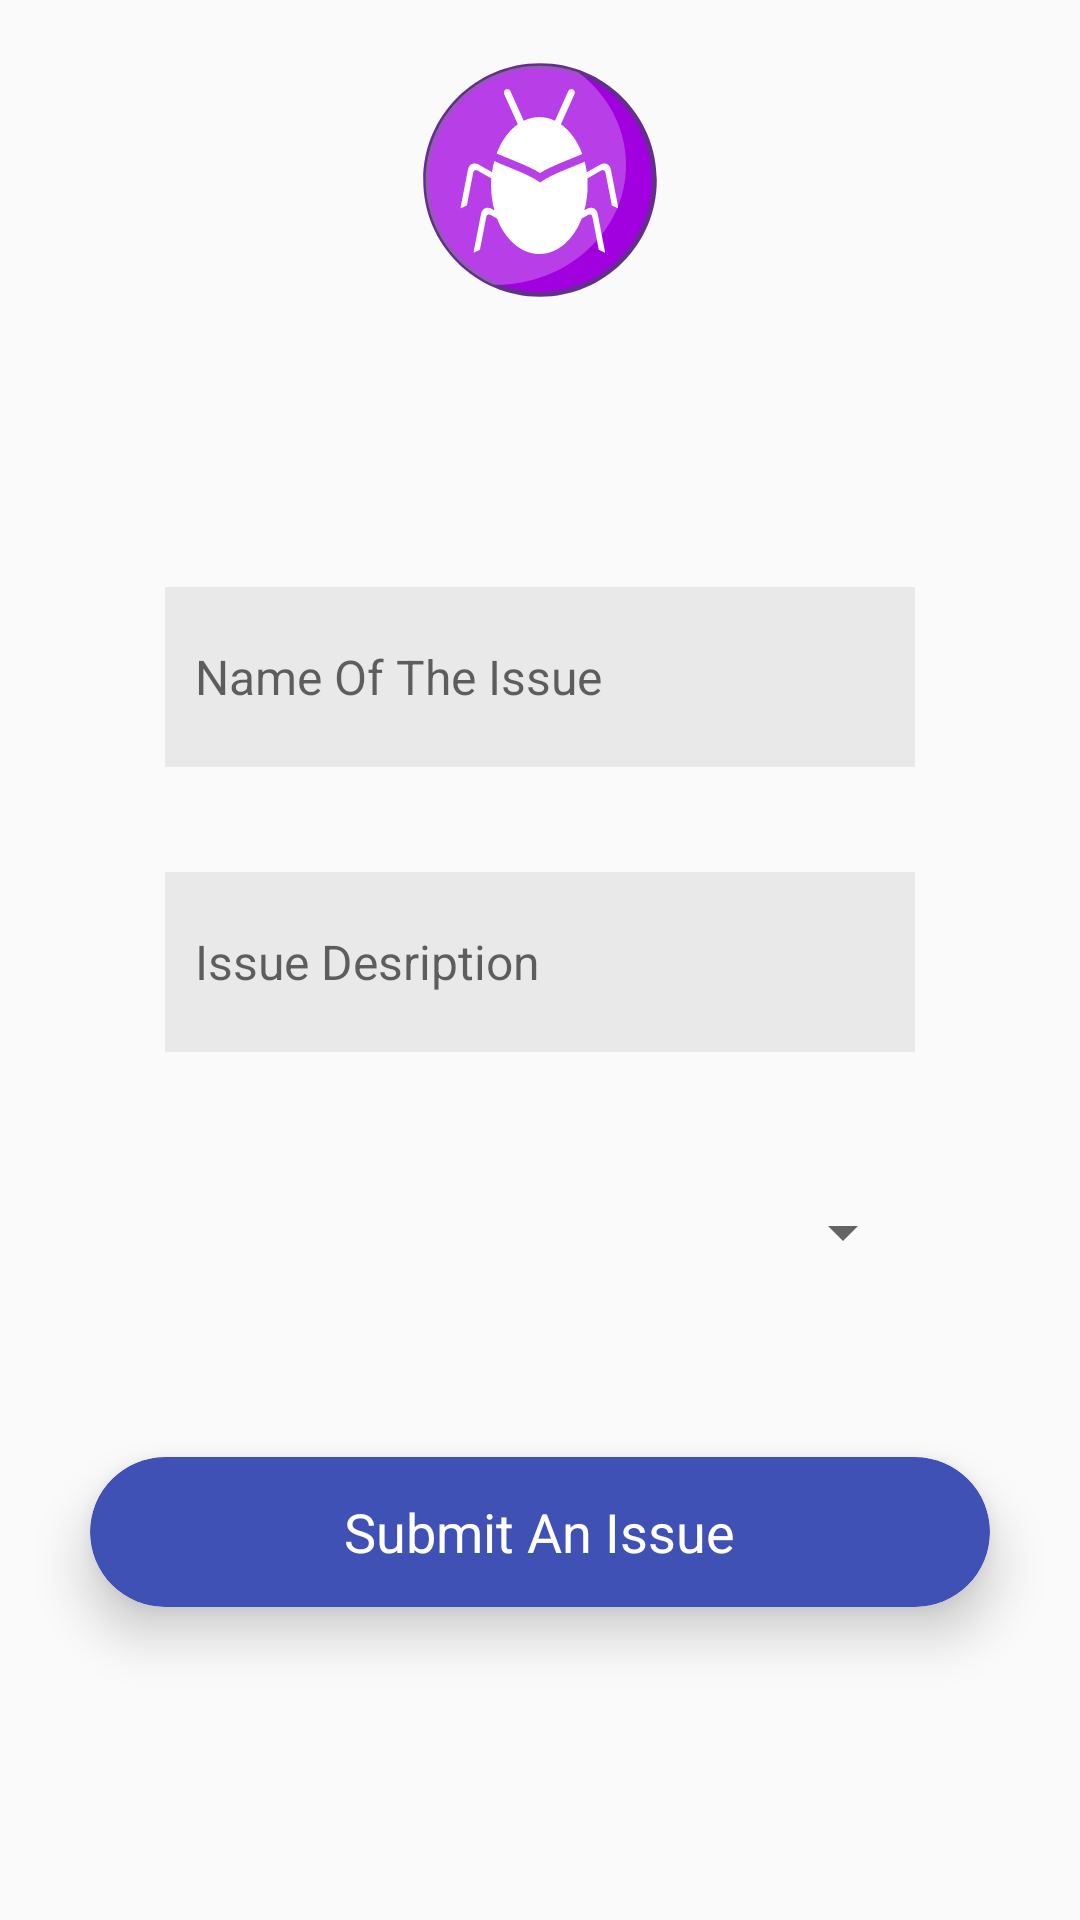

Icons on this 1080x1920 Android screen, each with the point to tap as point (x, y):
report bug: point (540, 180)
